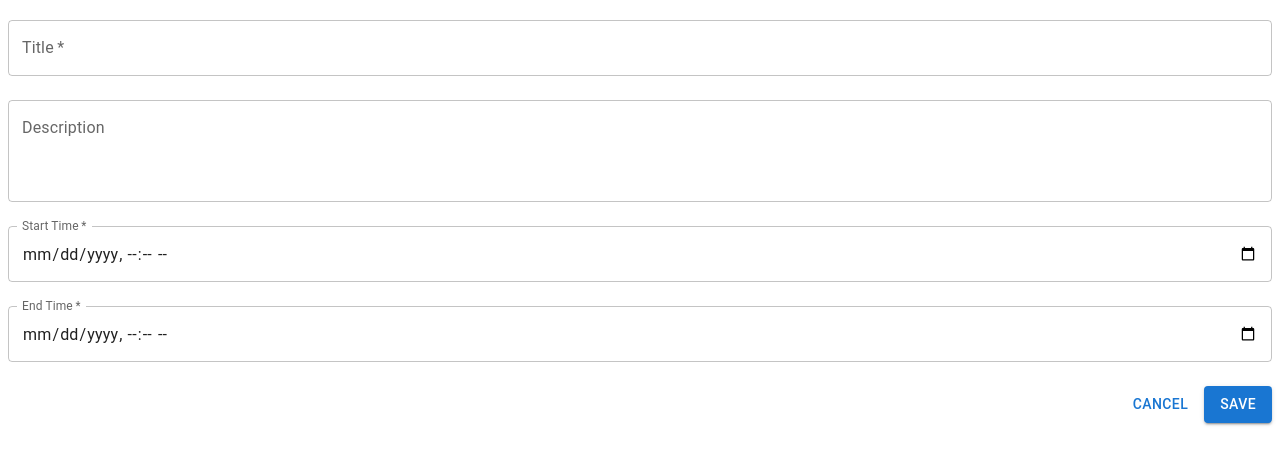
Test case: AppointmentForm › shows validation error when end time is before start time
The width and height of the screenshot is (1280, 465).
In the field labelled "Title *": x=640, y=48 [8,20,1272,76], type "Meeting"
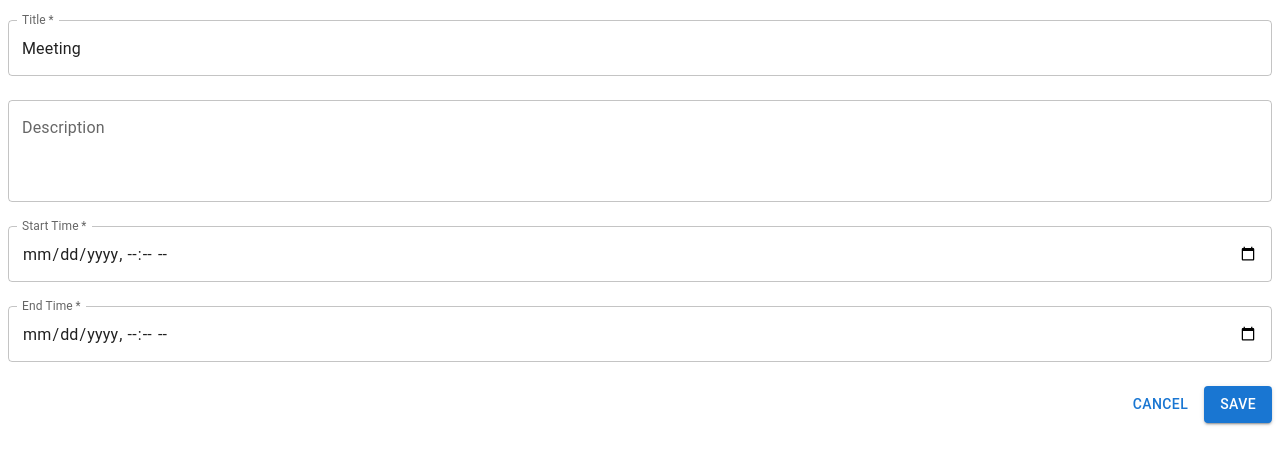
In the field labelled "Start Time *": x=640, y=254 [8,226,1272,282], type "2026-06-05T15:00"
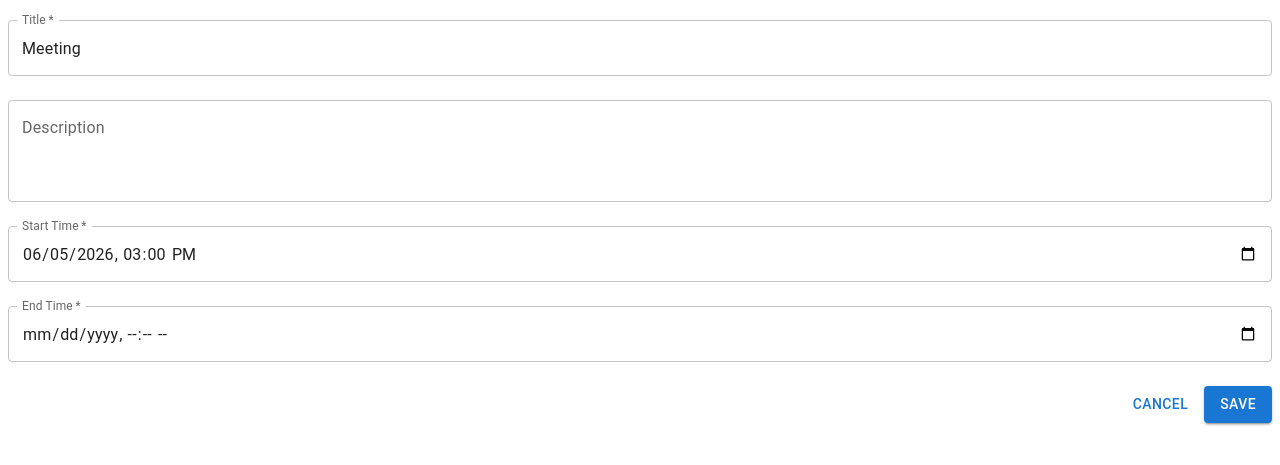
In the field labelled "End Time *": x=640, y=334 [8,306,1272,362], type "2026-06-05T14:00"
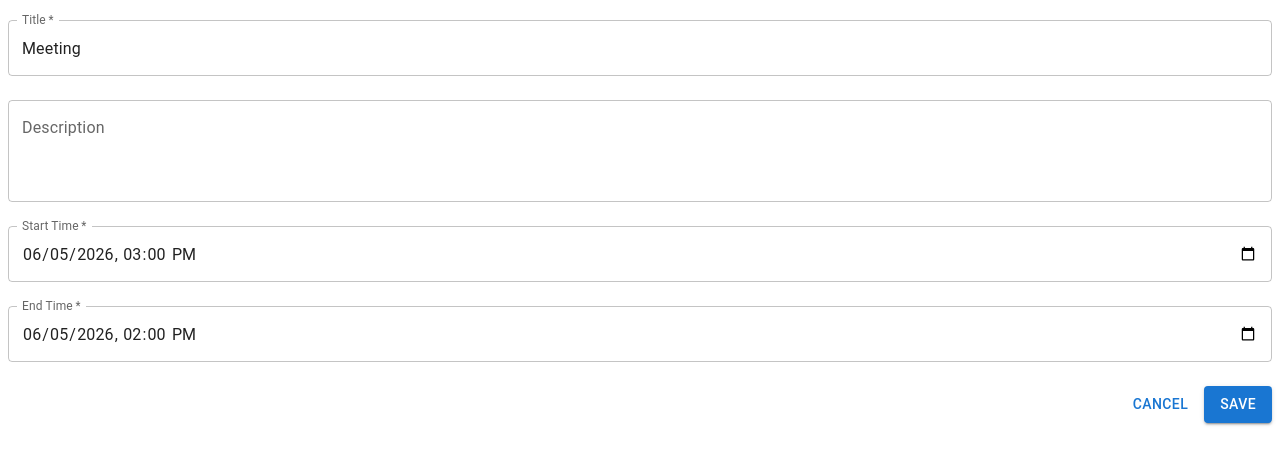
Click the button "Save": x=1238, y=404 [1204,386,1272,422]
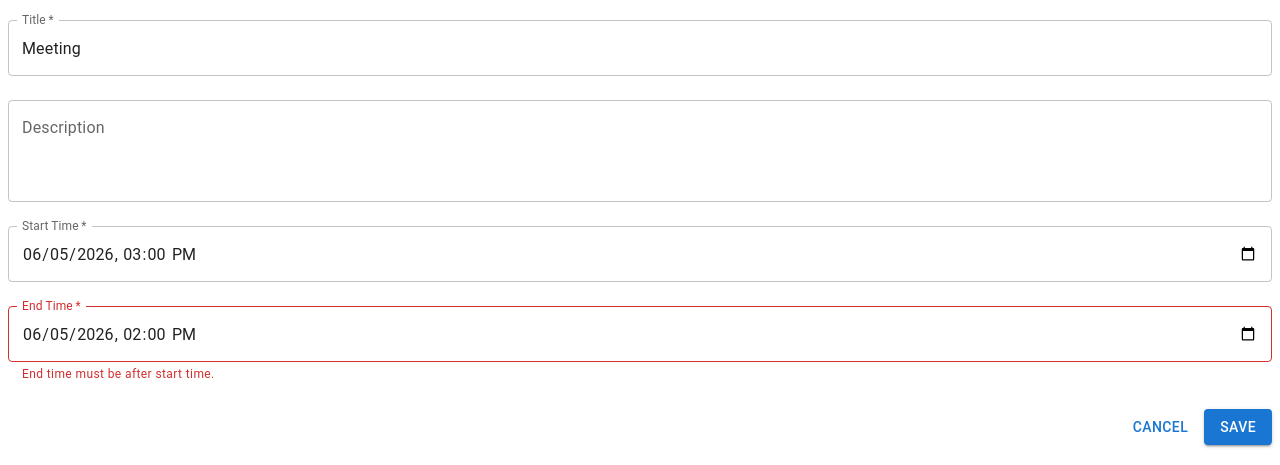
expect the text "End time must be after start time." is shown: met, box [22,367,215,381]
